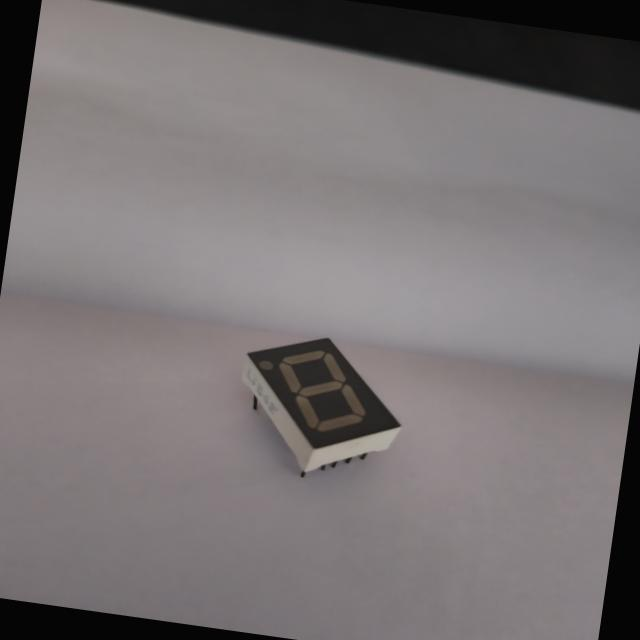sevensegment: (218, 314, 421, 492)
